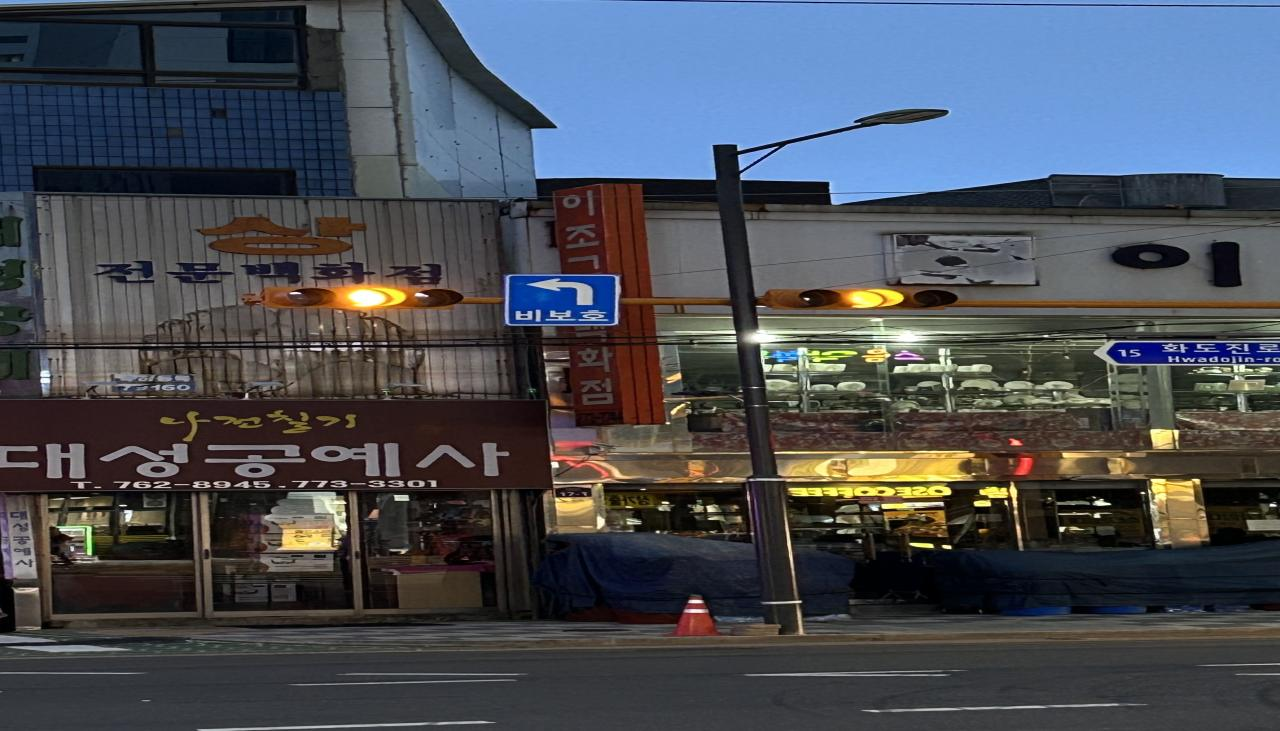Yellow Light: (336, 284, 406, 310), (839, 288, 902, 310)
